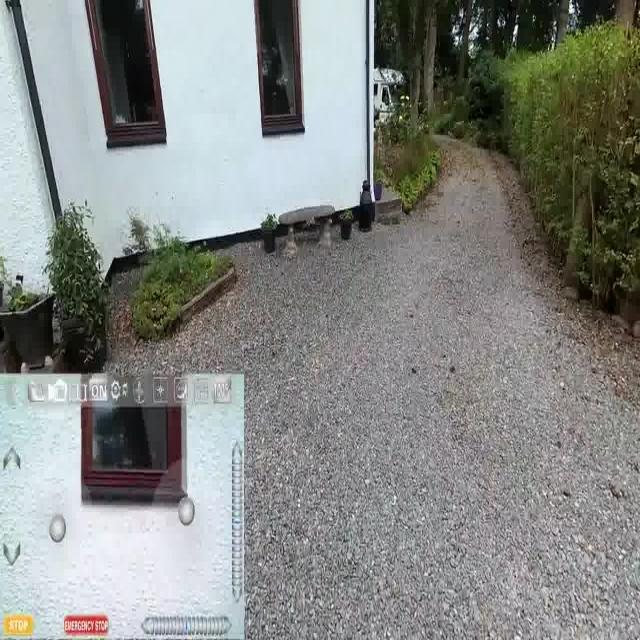drones: (300, 214, 323, 234)
